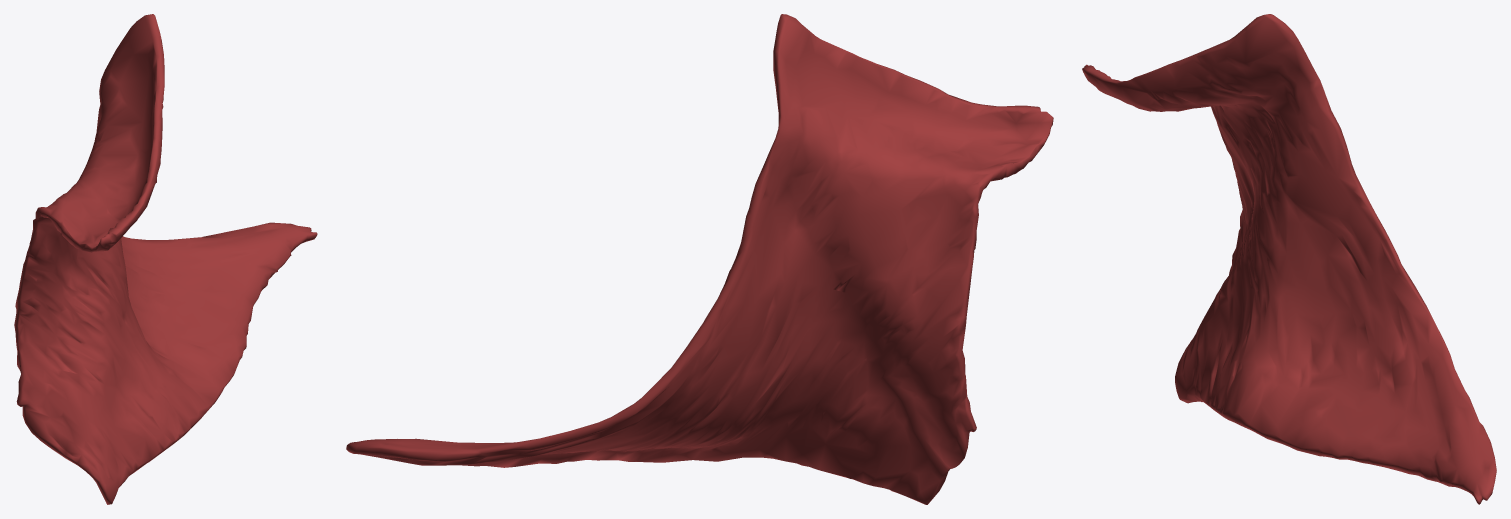
File: platysma-l.glb
The picture shows the model from 3 angles, left to right: view 1: azimuth 30°, elevation 25°; view 2: azimuth 150°, elevation 25°; view 3: azimuth 270°, elevation 25°; orthographic projection. The views are drawn at different scales.
Visible parts, largest first — view 1: Platysma.l; view 2: Platysma.l; view 3: Platysma.l.
Boxes of the visible parts, x1=… form: Platysma.l: x1=14, y1=14, x2=317, y2=504; Platysma.l: x1=346, y1=14, x2=1053, y2=504; Platysma.l: x1=1082, y1=14, x2=1496, y2=504.
Size of the model in its own units: 0.1439 by 0.1421 by 0.1245.
